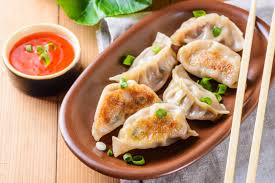fried_dumplings: (118, 103, 187, 151), (88, 84, 159, 129), (167, 75, 222, 120), (175, 13, 239, 50), (120, 41, 169, 89), (185, 42, 238, 84)
